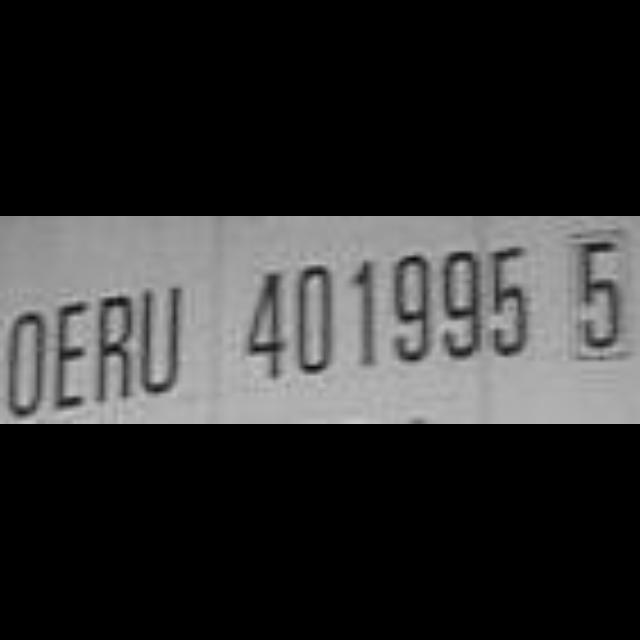0: (293, 260, 335, 380)
1: (348, 255, 380, 375)
4: (244, 268, 290, 384)
5: (490, 243, 530, 363), (580, 238, 622, 352)
9: (390, 251, 436, 371), (439, 245, 483, 362)
e: (54, 298, 90, 414)
o: (7, 306, 45, 422)
r: (96, 292, 136, 406)
u: (140, 284, 183, 400)
